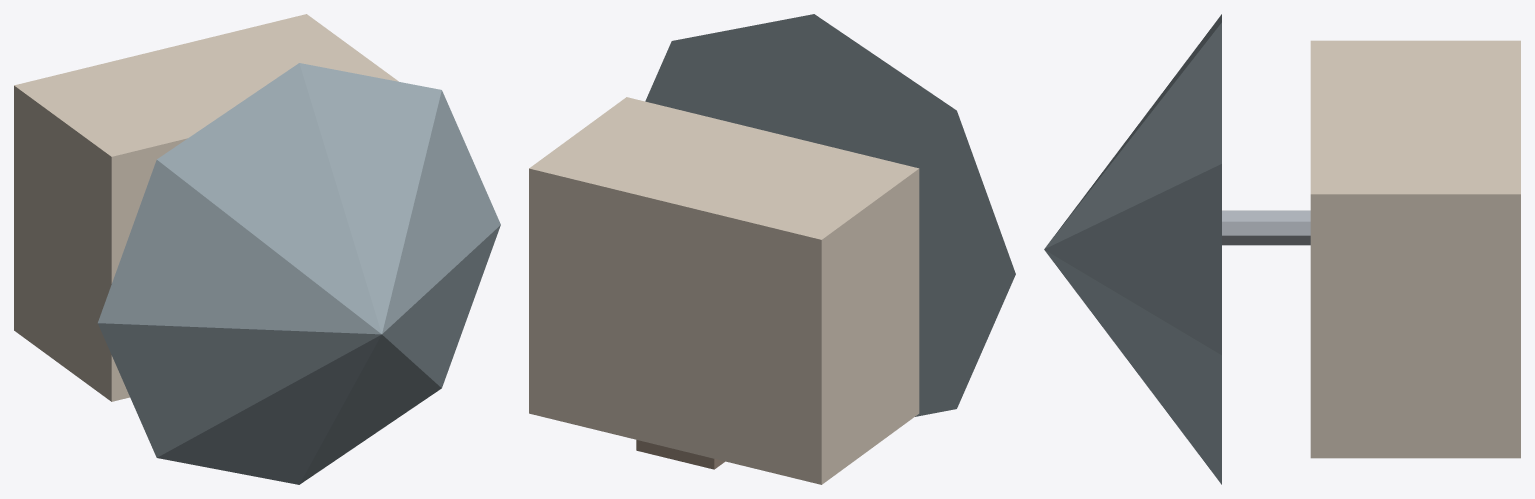
File: dilna.glb
3 renders of one model, left to right at view 1: azimuth 30°, elevation 25°; view 2: azimuth 150°, elevation 25°; view 3: azimuth 270°, elevation 25°, orthographic. The views are drawn at different scales.
Visible parts, largest first — view 1: world; view 2: world; view 3: world.
Part boxes in pixels (x1=…): world: x1=14, y1=14, x2=500, y2=484; world: x1=529, y1=14, x2=1015, y2=484; world: x1=1044, y1=14, x2=1520, y2=484.
Size of the model in its own units: 6.2 by 6.2 by 5.9.
